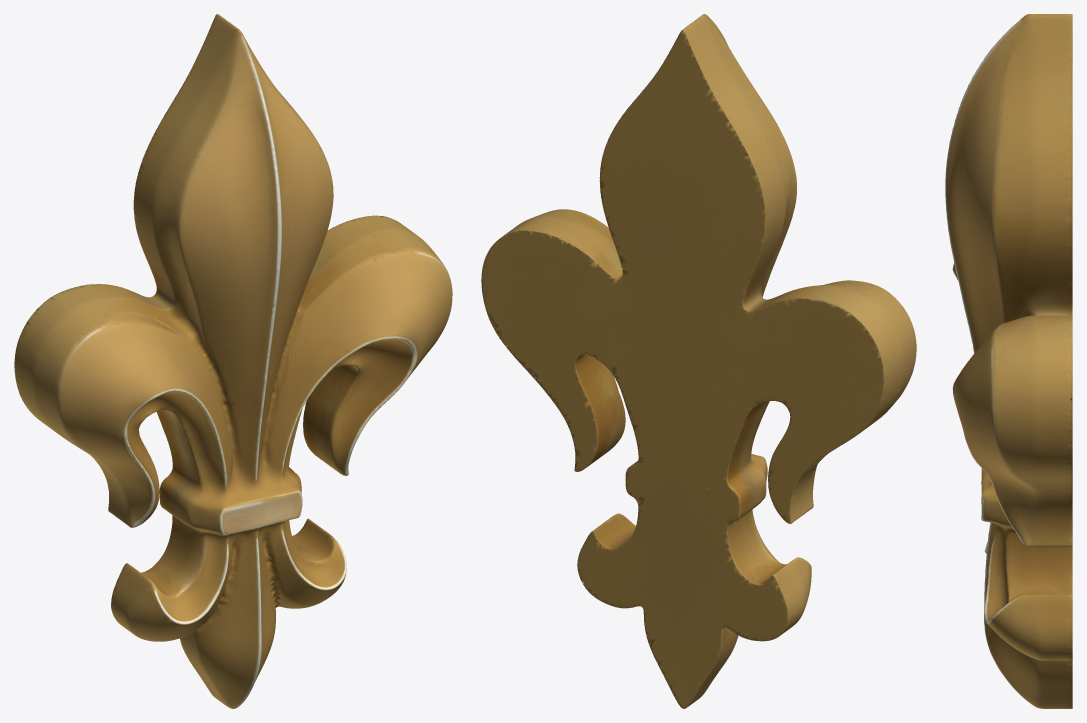
Rendered from Meshy_AI_Golden_Fleur_de_lis_1016063557_texture.fbx.
3 renders of one model, left to right at view 1: azimuth 30°, elevation 25°; view 2: azimuth 150°, elevation 25°; view 3: azimuth 270°, elevation 25°, orthographic. The views are drawn at different scales.
Parts seen in each view (by area): view 1: Mesh_0; view 2: Mesh_0; view 3: Mesh_0.
Boxes of the visible parts, <box> form: Mesh_0: <box>14,14,452,708</box>; Mesh_0: <box>481,14,916,708</box>; Mesh_0: <box>945,14,1072,708</box>.
Size of the model in its own units: 118 by 190 by 31.61.
Materials: 1 (1 with a texture image).
